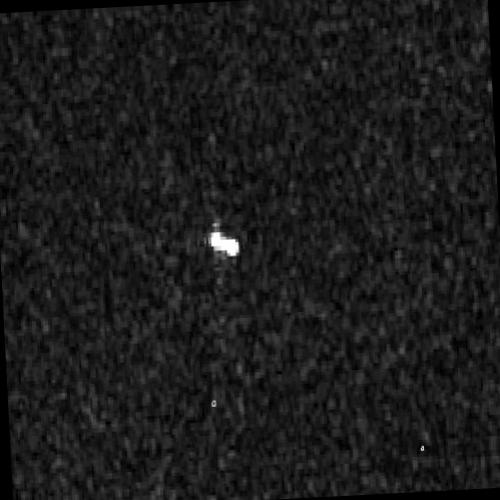ship: (207, 229, 240, 259)
